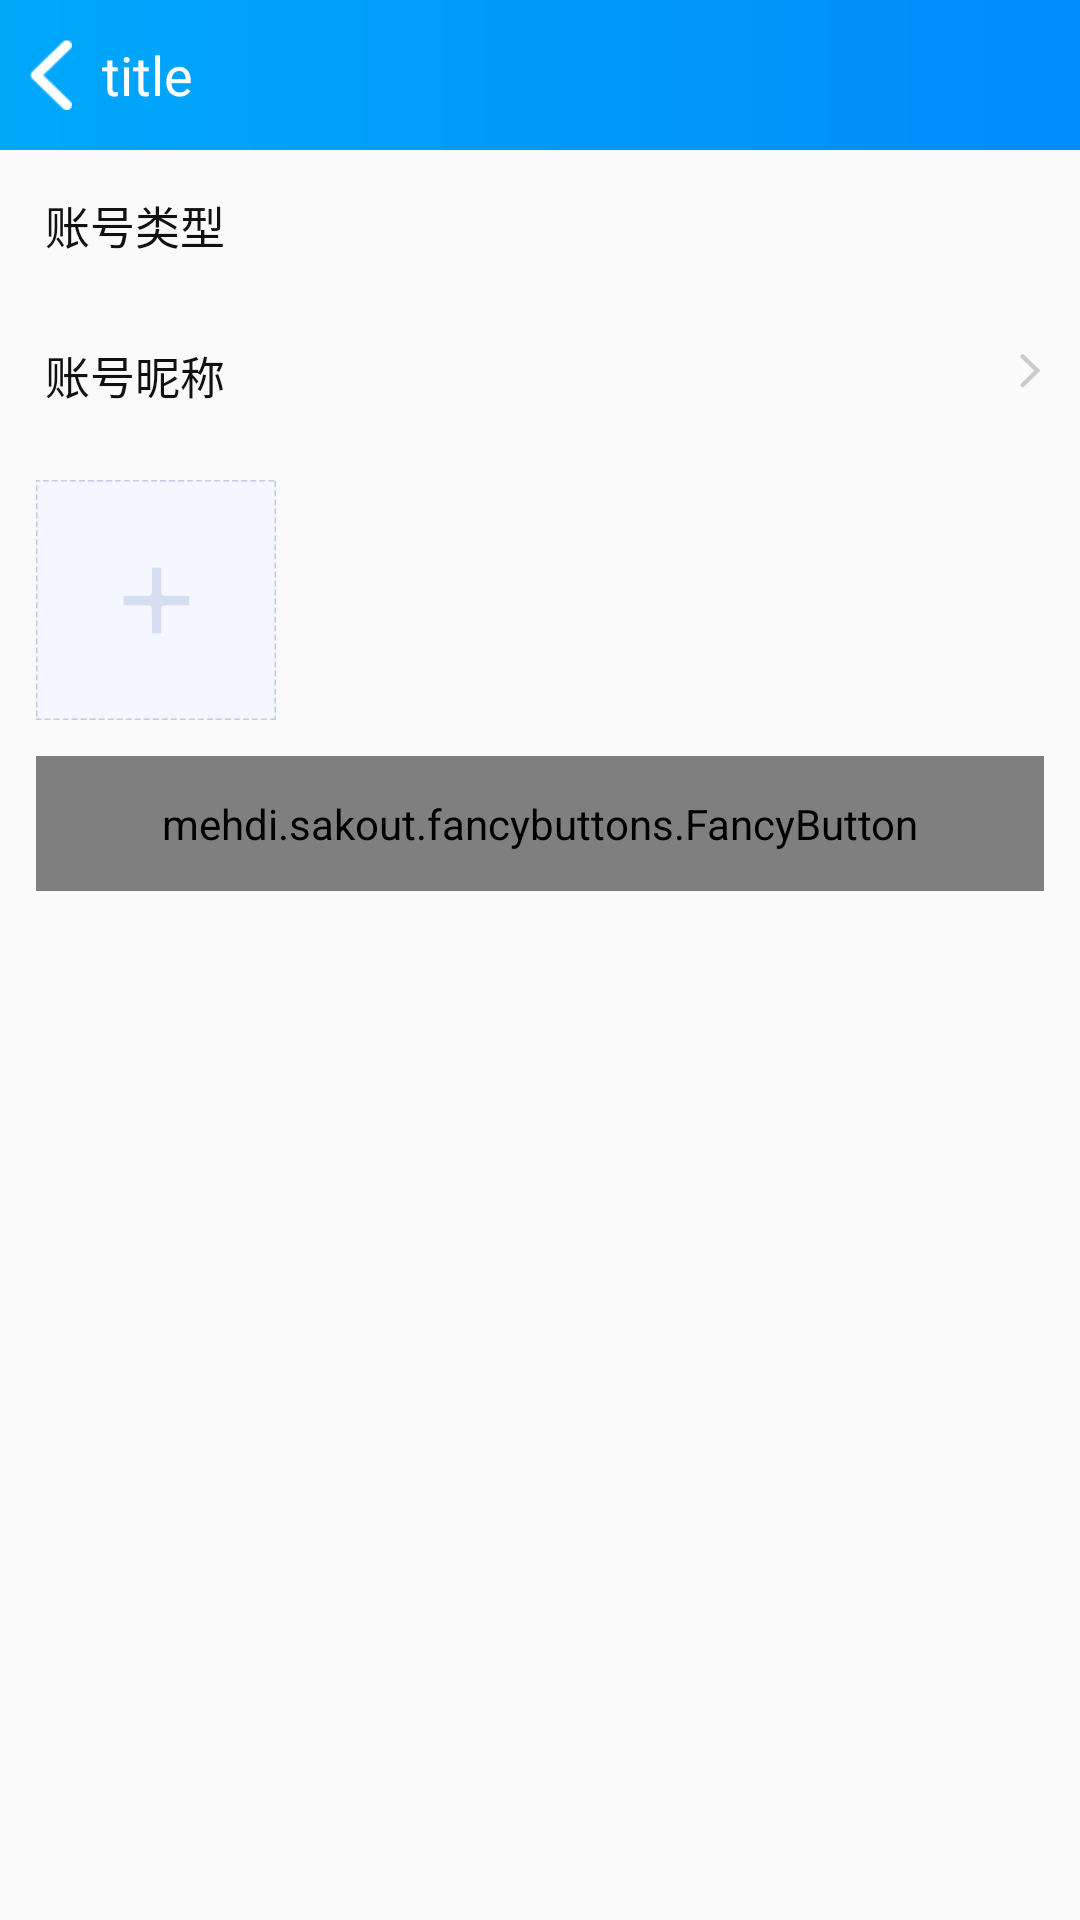

Locate icon controls on the screen. Image size 1080 × 1920, boxes as detection(x1, y1, x2, y2).
add: detection(36, 480, 276, 720)
back: detection(30, 40, 72, 110)
